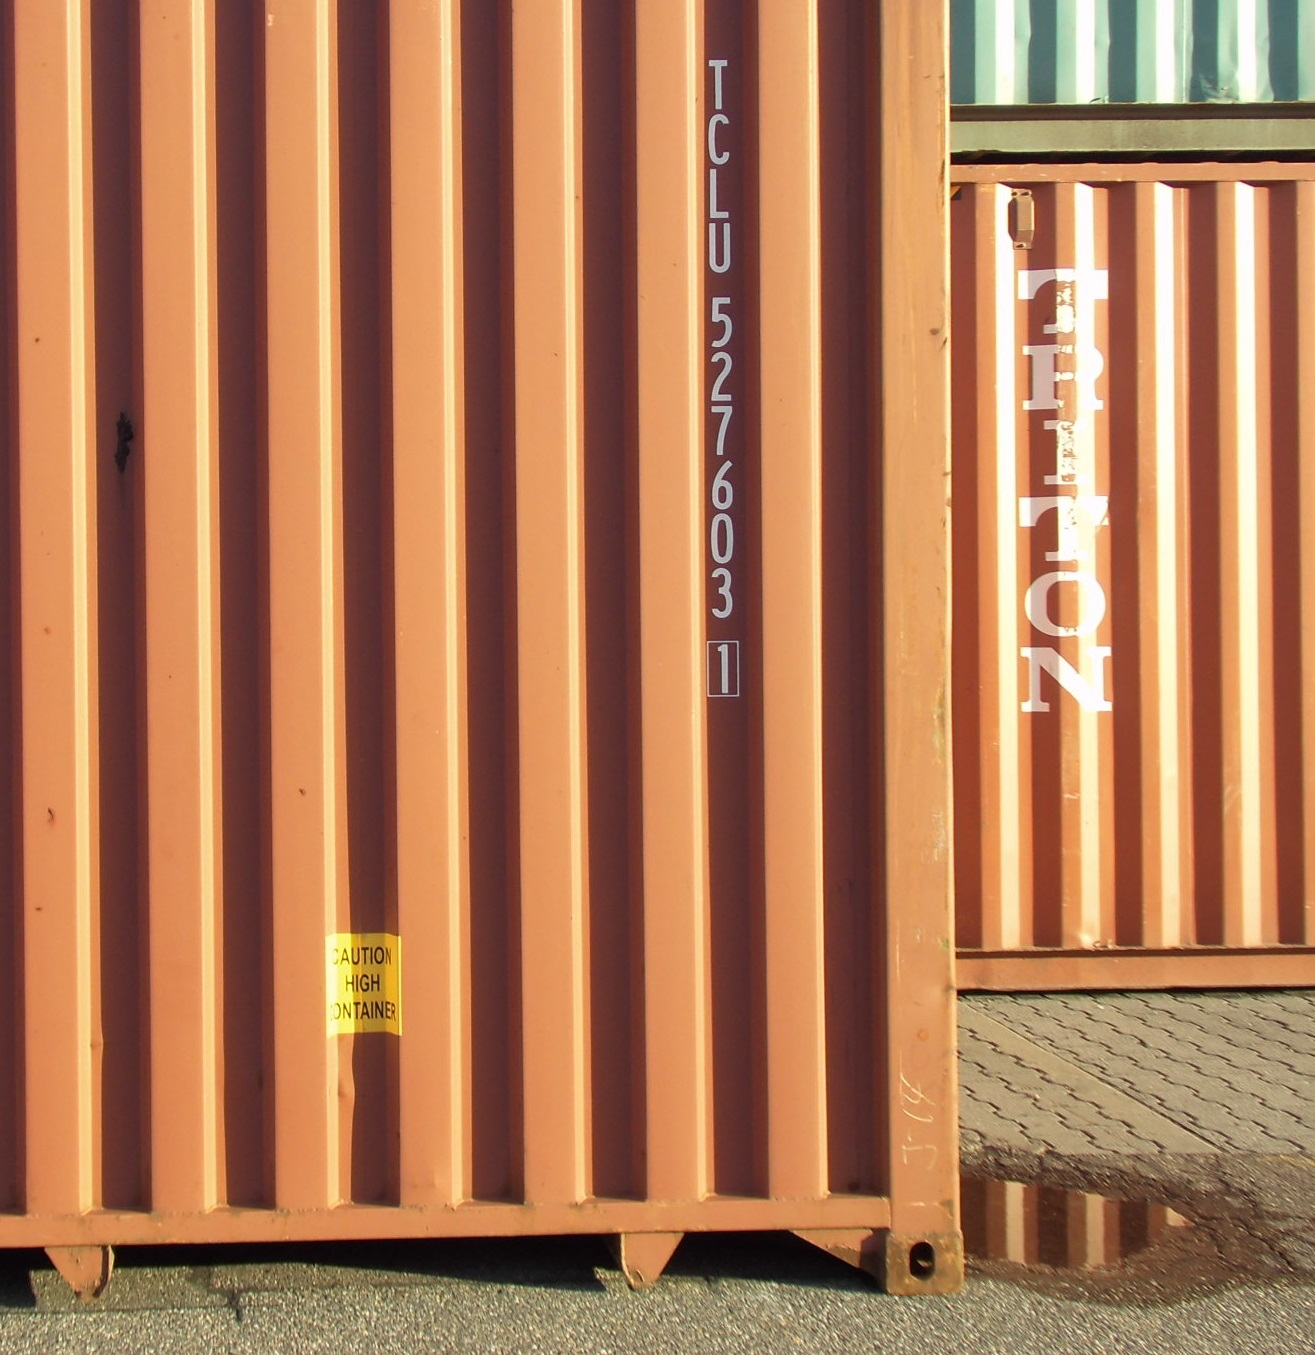container_no_door: (2, 1, 963, 1297)
